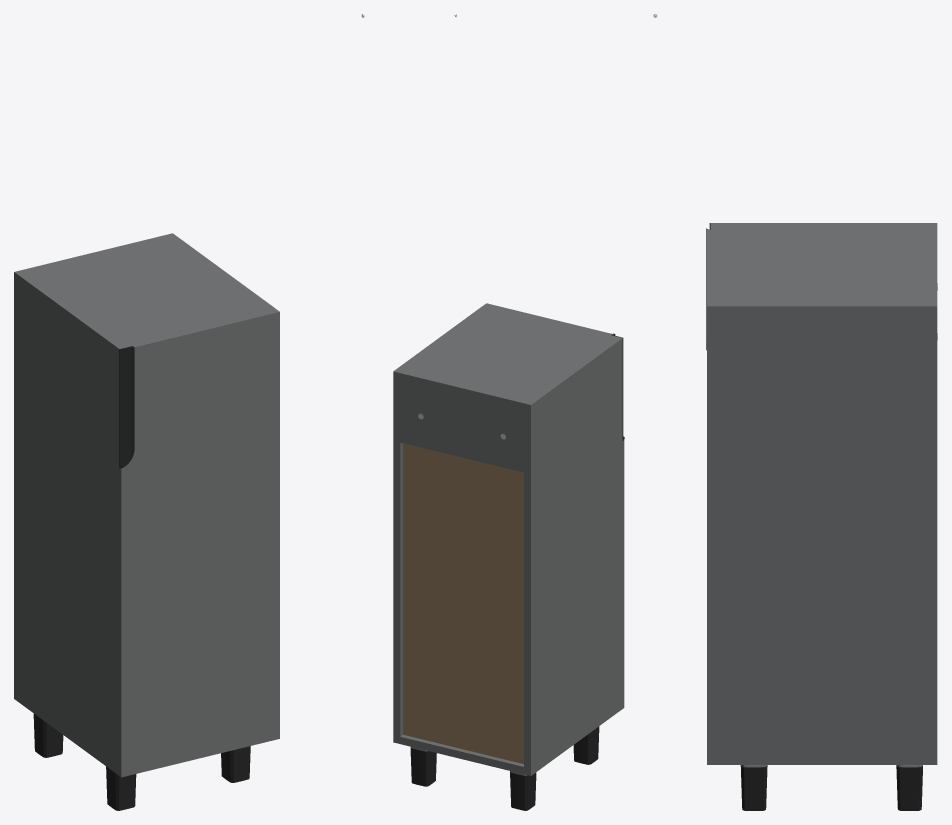
3 views of the same model, side by side, from view 1: azimuth 30°, elevation 25°; view 2: azimuth 150°, elevation 25°; view 3: azimuth 270°, elevation 25° (orthographic). The views are drawn at different scales.
Visible parts, largest first — view 1: group_0.268, Cube, group_0.389, group_0.326, group_0.329, group_0.327; view 2: Cube, group_0.369, group_0.268, group_0.329, group_0.328, group_0.326; view 3: Cube, group_0.268, group_0.327, group_0.328.
Boxes of the visible parts, x1=… form: group_0.268: x1=116, y1=308, x2=279, y2=777; Cube: x1=14, y1=233, x2=274, y2=773; group_0.389: x1=119, y1=346, x2=134, y2=468; group_0.326: x1=106, y1=766, x2=136, y2=810; group_0.329: x1=33, y1=713, x2=63, y2=757; group_0.327: x1=221, y1=746, x2=250, y2=782; Cube: x1=393, y1=306, x2=619, y2=775; group_0.369: x1=403, y1=443, x2=523, y2=763; group_0.268: x1=482, y1=303, x2=624, y2=710; group_0.329: x1=510, y1=771, x2=536, y2=810; group_0.328: x1=410, y1=747, x2=436, y2=786; group_0.326: x1=573, y1=726, x2=599, y2=764; Cube: x1=718, y1=223, x2=937, y2=764; group_0.268: x1=707, y1=223, x2=717, y2=764; group_0.327: x1=740, y1=765, x2=767, y2=810; group_0.328: x1=896, y1=765, x2=922, y2=810.
Bounding box in the file's own units: 0.4841 × 1.64 × 0.5054.
